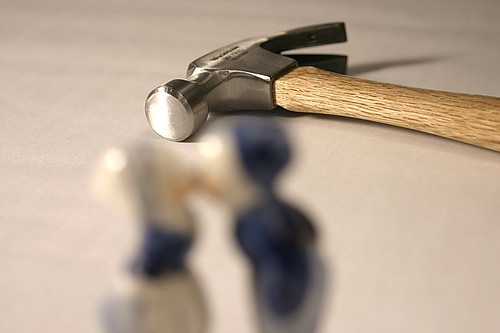hammer: (143, 20, 500, 153)
